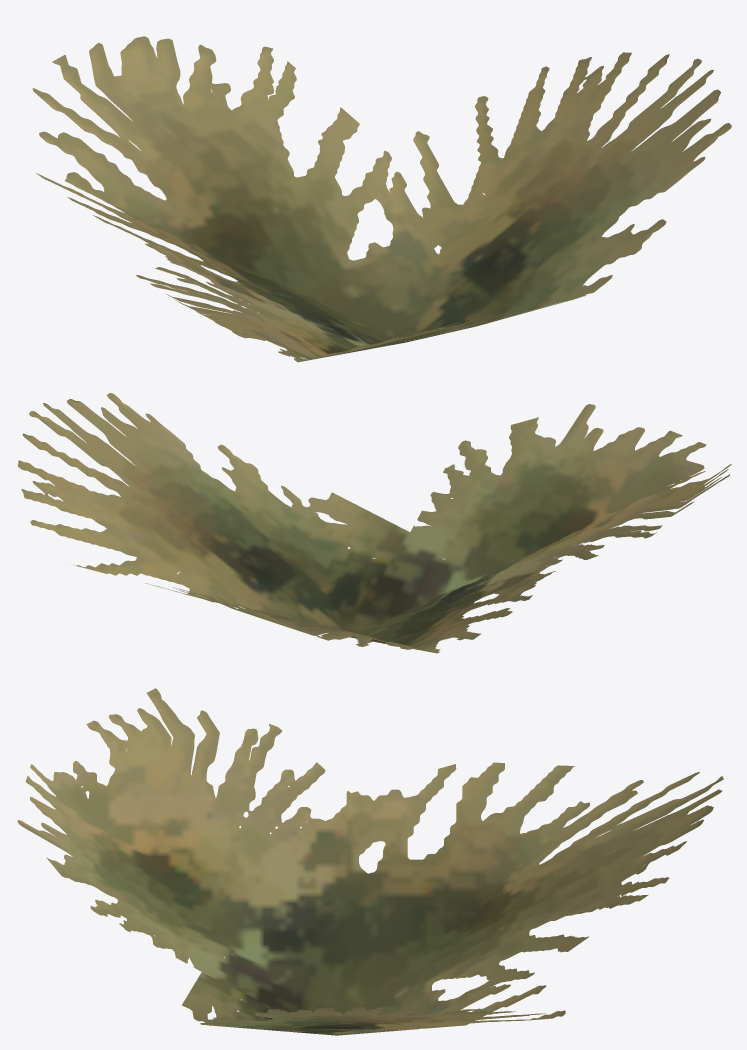
The model's file is oVgtAIO1B.FBX.
3 renders of one model, top to bottom at view 1: azimuth 30°, elevation 25°; view 2: azimuth 150°, elevation 25°; view 3: azimuth 270°, elevation 25°, orthographic. The views are drawn at different scales.
Visible parts, largest first — view 1: oVgtAIO1B; view 2: oVgtAIO1B; view 3: oVgtAIO1B.
Part boxes in pixels (x1,y1,x2,y2): oVgtAIO1B: [32, 36, 731, 362]; oVgtAIO1B: [17, 393, 731, 653]; oVgtAIO1B: [17, 688, 723, 1035].
Bounding box in the file's own units: 7.74 × 7.34 × 2.28.
